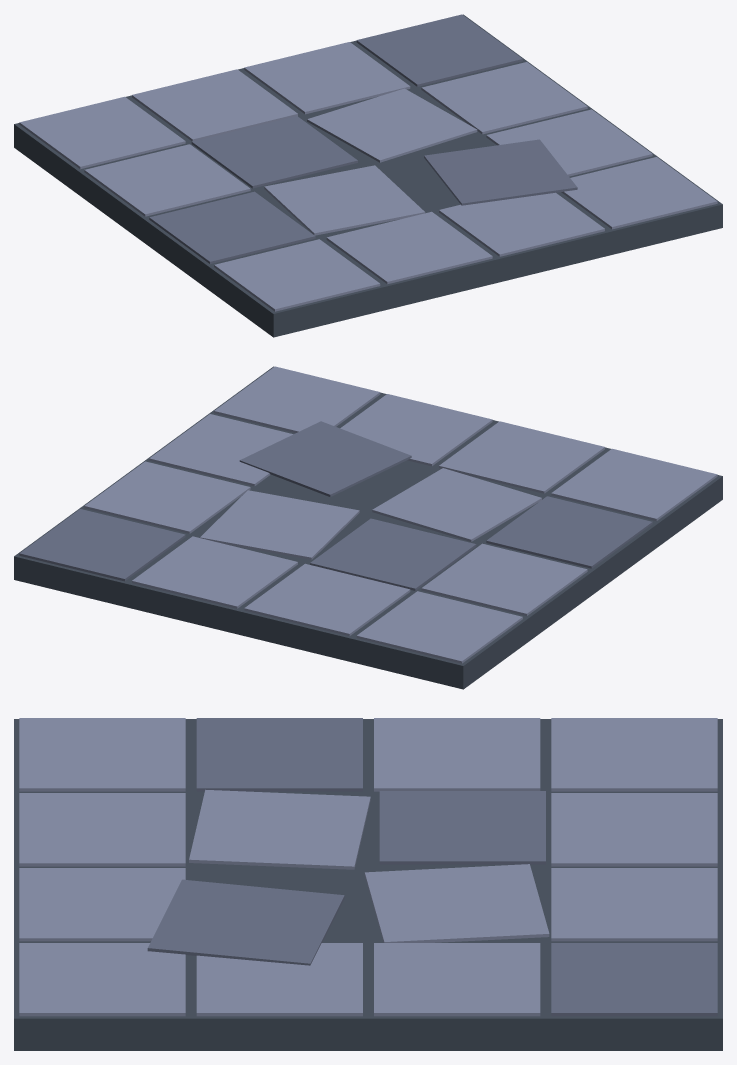
File: FloorTile04.fbx
3 renders of one model, top to bottom at view 1: azimuth 30°, elevation 25°; view 2: azimuth 150°, elevation 25°; view 3: azimuth 270°, elevation 25°, orthographic. The views are drawn at different scales.
Parts seen in each view (by area): view 1: Tile04; view 2: Tile04; view 3: Tile04.
Boxes of the visible parts, <box> form: Tile04: <box>14,14,722,337</box>; Tile04: <box>14,366,722,689</box>; Tile04: <box>14,718,722,1050</box>.
Bounding box in the file's own units: 2 × 0.1197 × 2.
